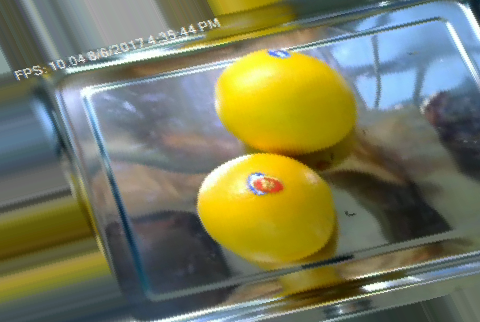Orange: (195, 152, 336, 264), (213, 48, 358, 153)
